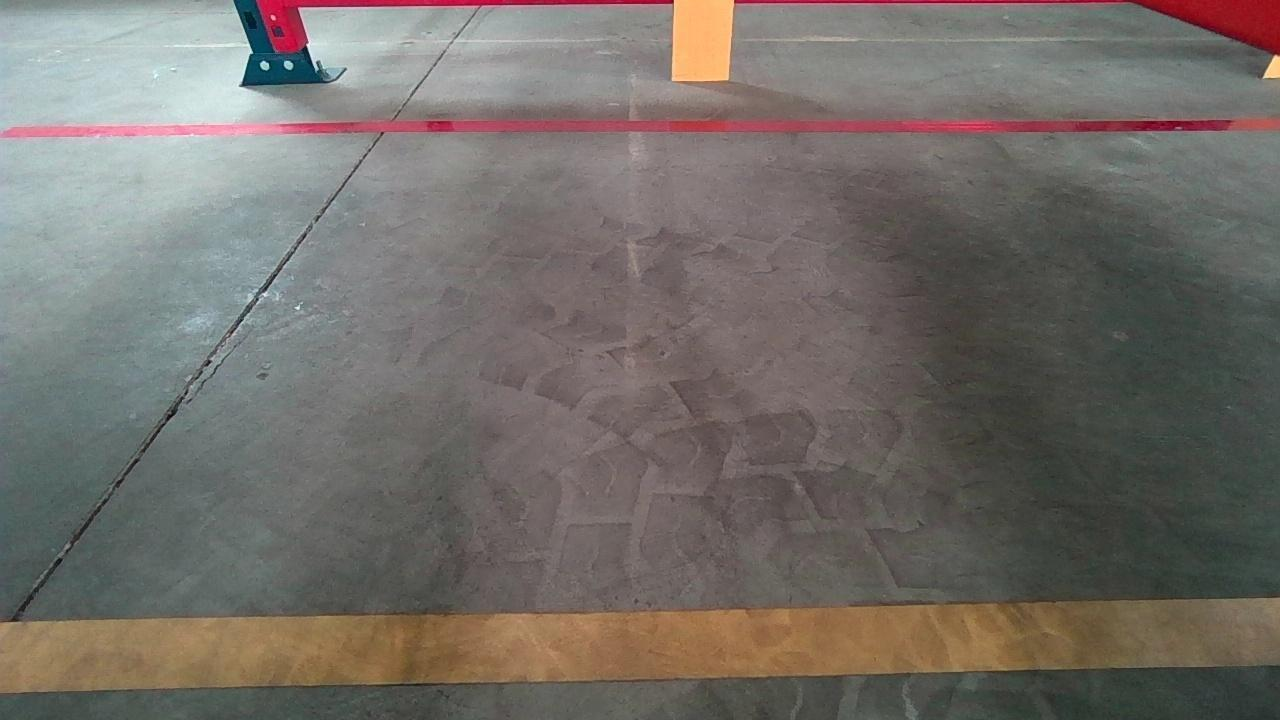red_line: (0, 118, 1280, 137)
